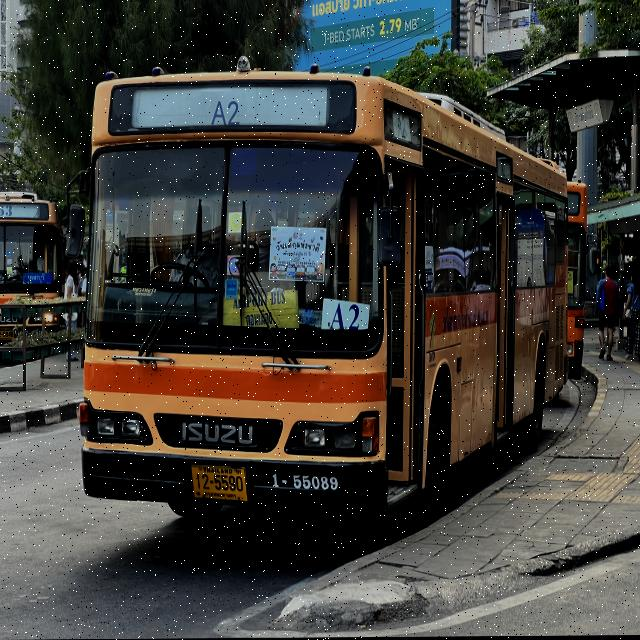BMTA-bus: (78, 66, 571, 525), (570, 181, 594, 382)
Bus-Line-Number: (198, 94, 253, 135)
Destination-Sign-Normal: (321, 297, 373, 333)
